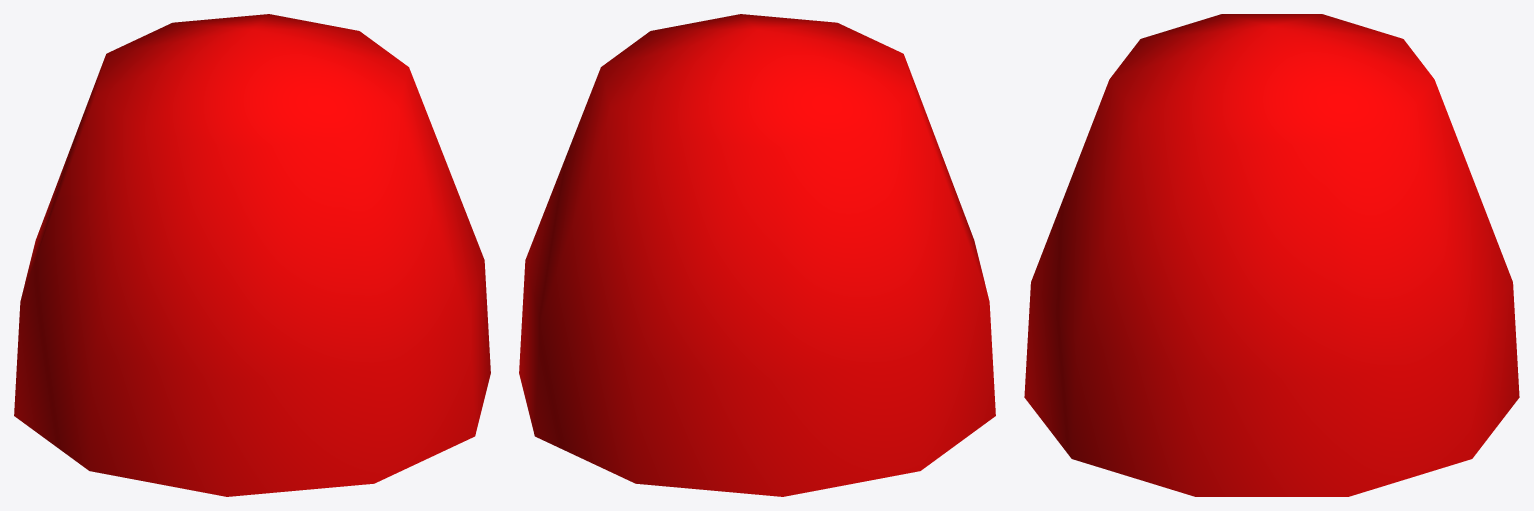
The model's file is SM_Lamp_02.fbx.
The picture shows the model from 3 angles, left to right: view 1: azimuth 30°, elevation 25°; view 2: azimuth 150°, elevation 25°; view 3: azimuth 270°, elevation 25°; orthographic projection.
Parts seen in each view (by area): view 1: SM_Lamp_02; view 2: SM_Lamp_02; view 3: SM_Lamp_02.
Part boxes in pixels (x1,y1,x2,y2): SM_Lamp_02: (14,14,490,496); SM_Lamp_02: (519,14,995,496); SM_Lamp_02: (1024,14,1519,496).
Size of the model in its own units: 19.54 by 16.96 by 20.54.
1 material, 1 textured.
